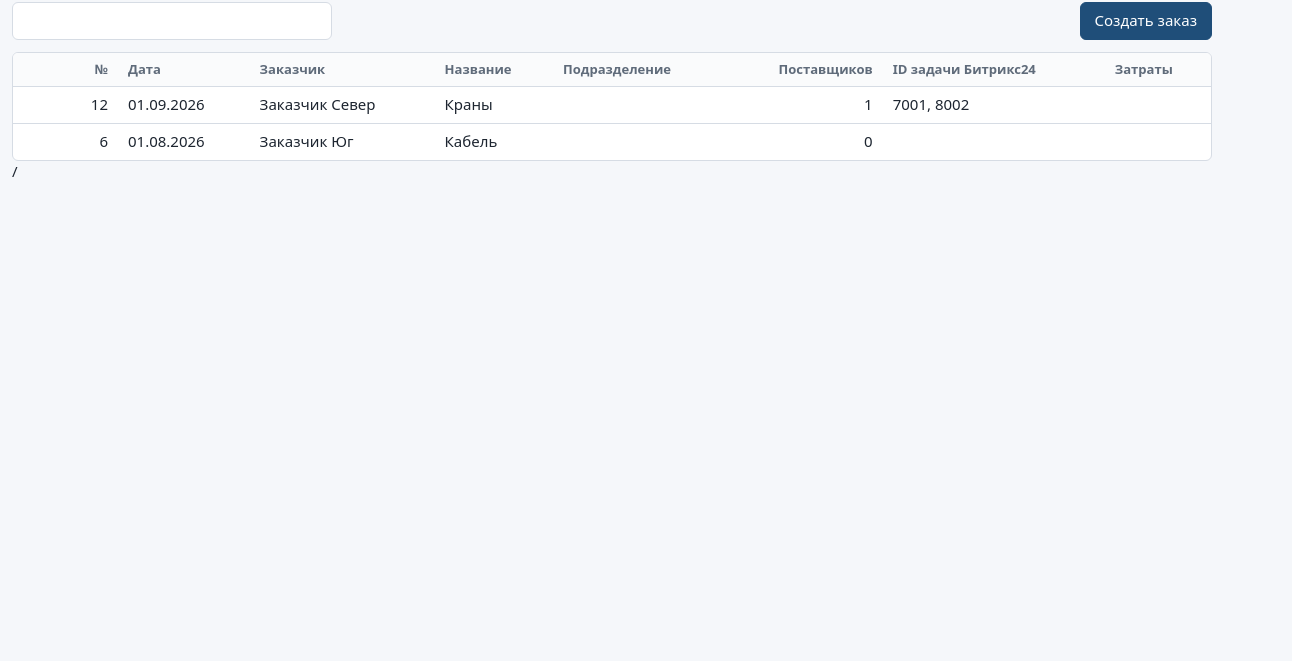
Test: список заказов › строка ведёт в карточку заказа
Click the text "Краны" at (494, 105), box [435,87,553,123]
(page scrolled)
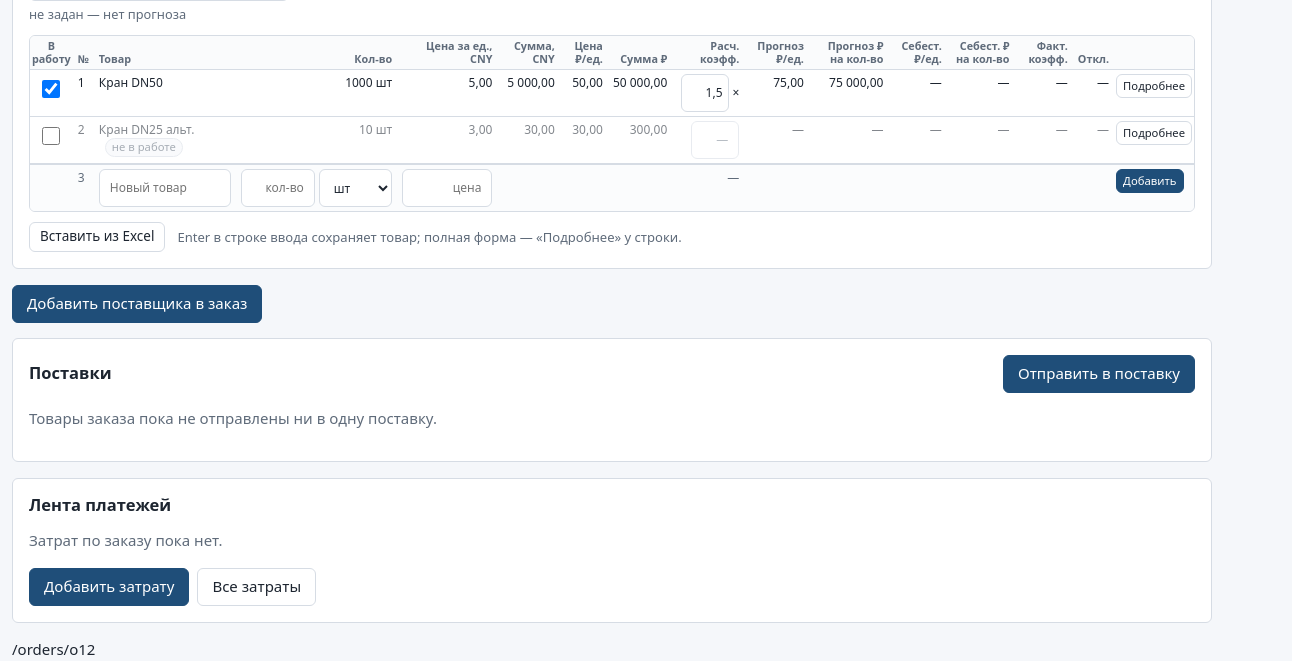
Check: the text with test id "where" reads "/orders/o12", box [12,639,95,659]
